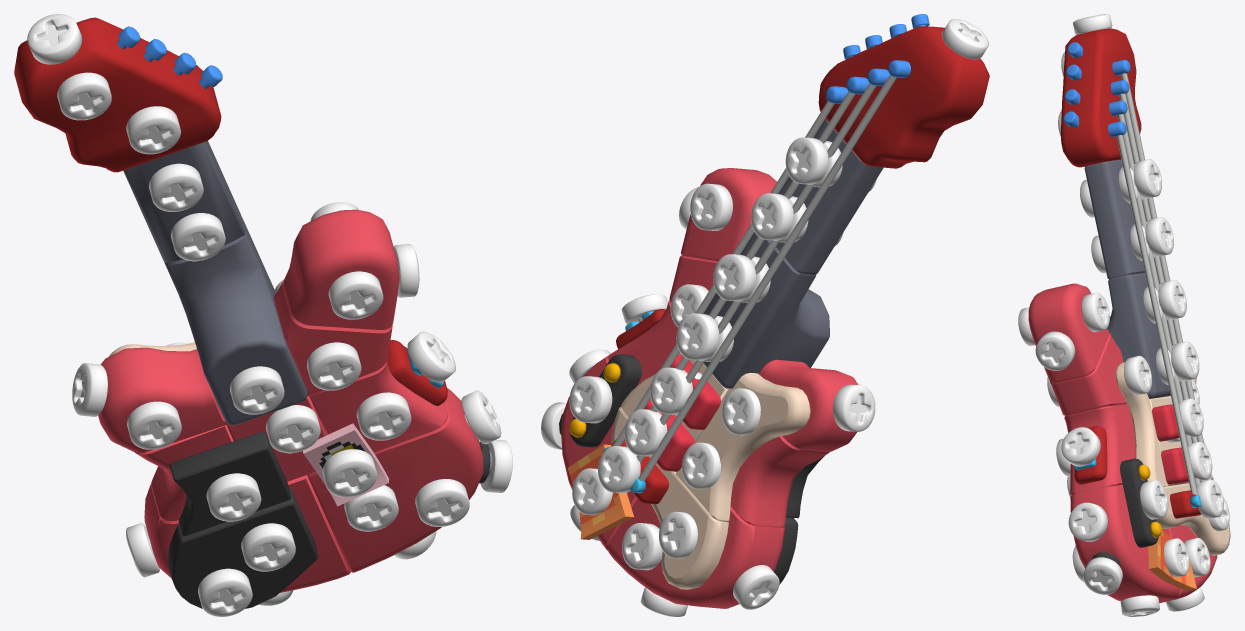
The model's file is Eguita_GroupE.fbx.
3 renders of one model, left to right at view 1: azimuth 30°, elevation 25°; view 2: azimuth 150°, elevation 25°; view 3: azimuth 270°, elevation 25°, orthographic. The views are drawn at different scales.
Parts seen in each view (by area): view 1: Screw (×23), Eguitar_021, Eguitar_001, Eguitar_008, Eguitar_024, Eguitar_012, Eguitar_003, Eguitar_004, Eguitar_002, Eguitar_023, Eguitar_011, Eguitar_009 (+4 smaller); view 2: Screw (×22), Eguitar_021, Eguitar_005, Eguitar_001, Eguitar_011, Eguitar_019, Eguitar_002, Eguitar_010, Eguitar_017, Eguitar_012, Eguitar_024, Eguitar_020 (+10 smaller); view 3: Screw (×28), Eguitar_021, Eguitar_005, Eguitar_008, Eguitar_024, Eguitar_002, Eguitar_001, Eguitar_023, Eguitar_009, Eguitar_018, Eguitar_020, Eguitar_017 (+7 smaller).
Boxes of the visible parts, <box> form: Screw (×23): <box>27,14,512,616</box>; Eguitar_021: <box>14,17,222,172</box>; Eguitar_001: <box>164,218,307,425</box>; Eguitar_008: <box>307,388,483,572</box>; Eguitar_024: <box>283,209,399,329</box>; Eguitar_012: <box>98,347,227,452</box>; Eguitar_003: <box>168,487,318,608</box>; Eguitar_004: <box>170,431,291,536</box>; Eguitar_002: <box>123,141,245,262</box>; Eguitar_023: <box>309,361,447,452</box>; Eguitar_011: <box>144,475,350,592</box>; Eguitar_009: <box>273,281,392,396</box>; Screw (×22): <box>541,19,989,616</box>; Eguitar_021: <box>818,14,989,168</box>; Eguitar_005: <box>612,60,910,480</box>; Eguitar_001: <box>703,232,829,388</box>; Eguitar_011: <box>608,499,784,608</box>; Eguitar_019: <box>675,373,810,522</box>; Eguitar_002: <box>770,119,883,274</box>; Eguitar_010: <box>730,436,829,528</box>; Eguitar_017: <box>611,407,728,589</box>; Eguitar_012: <box>758,359,857,452</box>; Eguitar_024: <box>681,168,776,261</box>; Eguitar_020: <box>569,354,641,447</box>; Screw (×28): <box>1018,14,1229,616</box>; Eguitar_021: <box>1061,28,1141,167</box>; Eguitar_005: <box>1108,59,1211,494</box>; Eguitar_008: <box>1070,484,1180,602</box>; Eguitar_024: <box>1028,283,1109,382</box>; Eguitar_002: <box>1084,159,1144,279</box>; Eguitar_001: <box>1107,273,1170,398</box>; Eguitar_023: <box>1064,403,1135,495</box>; Eguitar_009: <box>1050,333,1126,415</box>; Eguitar_018: <box>1116,362,1167,486</box>; Eguitar_020: <box>1120,458,1162,547</box>; Eguitar_017: <box>1155,483,1230,555</box>.
Bounding box in the file's own units: 7.77 × 10.46 × 4.03.
Materials: 2 (1 with a texture image).
